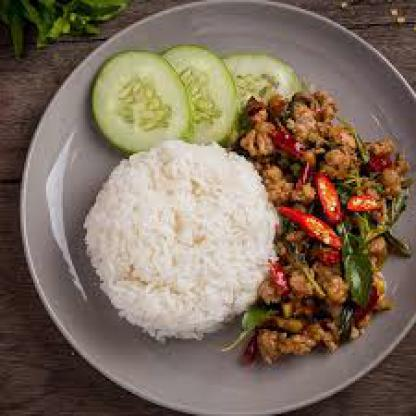Basil Rice: (66, 41, 414, 394)
